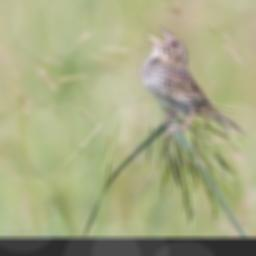Sparrow: (137, 26, 249, 166)
